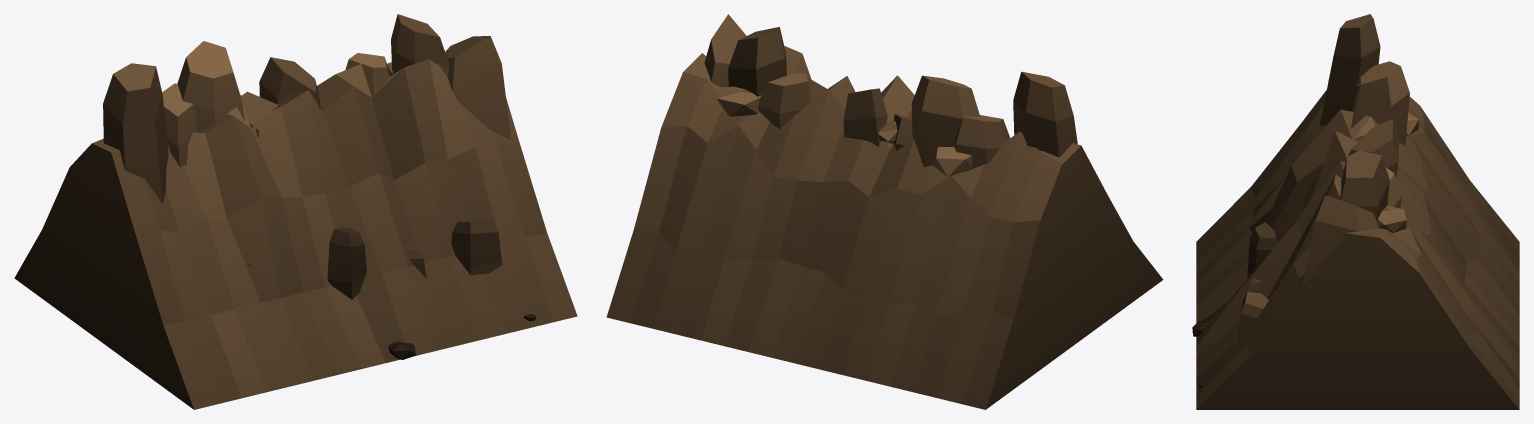
File: cliff-sides.glb
3 views of the same model, side by side, from view 1: azimuth 30°, elevation 25°; view 2: azimuth 150°, elevation 25°; view 3: azimuth 270°, elevation 25° (orthographic). The views are drawn at different scales.
Visible parts, largest first — view 1: cliff-sides; view 2: cliff-sides; view 3: cliff-sides.
Boxes of the visible parts, left/top/right/bottom form: cliff-sides: left=14, top=14, right=577, bottom=409; cliff-sides: left=606, top=14, right=1163, bottom=409; cliff-sides: left=1192, top=14, right=1519, bottom=409.
Bounding box in the file's own units: 4 × 2.67 × 3.29.
